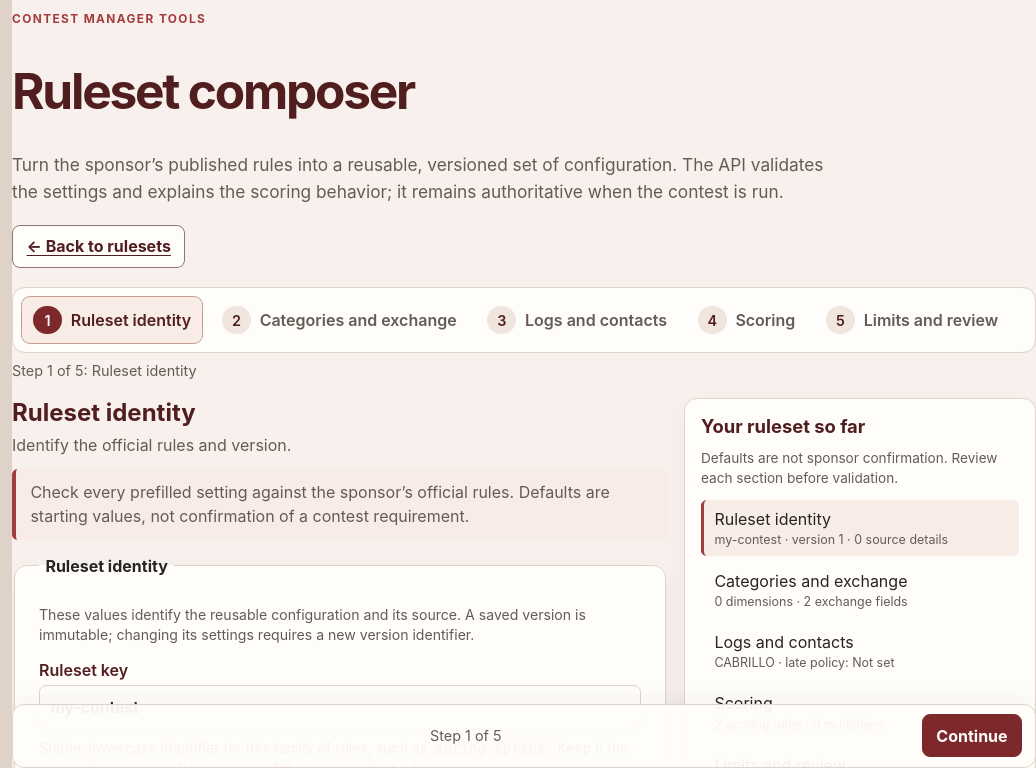
Scenario: RulesetComposerView › persists a validated immutable ruleset version
What coordinates should you click on to do the following:
click the button "5 Limits and review"
I would click on:
 (912, 320)
Its box is left=814, top=296, right=1010, bottom=344.
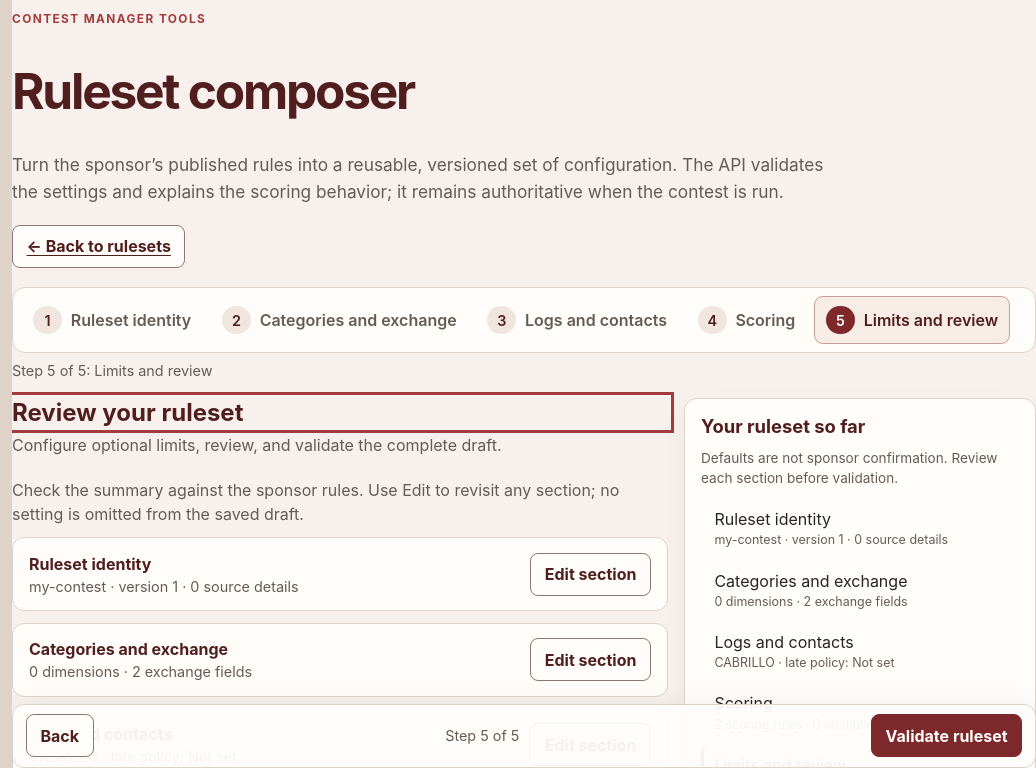
What coordinates should you click on to do the following:
click the button "Validate ruleset"
I would click on:
 (947, 736)
Its box is left=871, top=714, right=1022, bottom=758.
(page scrolled)
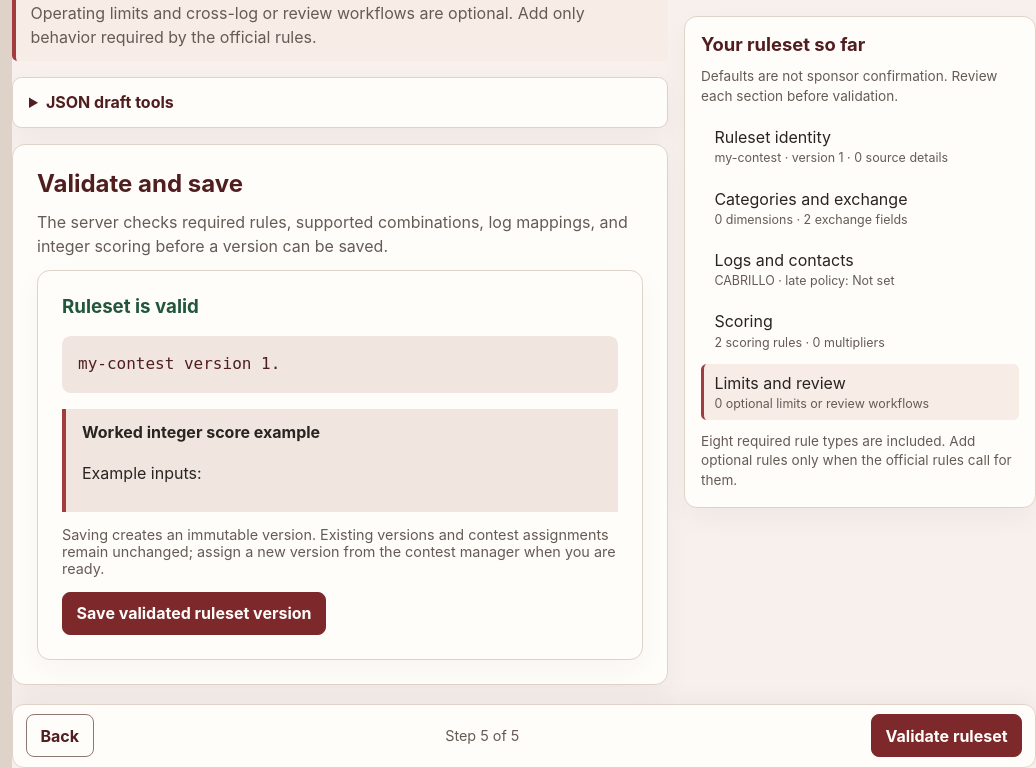
What coordinates should you click on to do the following:
click the button "Save validated ruleset version"
I would click on:
 (194, 613)
Its box is left=62, top=592, right=326, bottom=635.
(page scrolled)
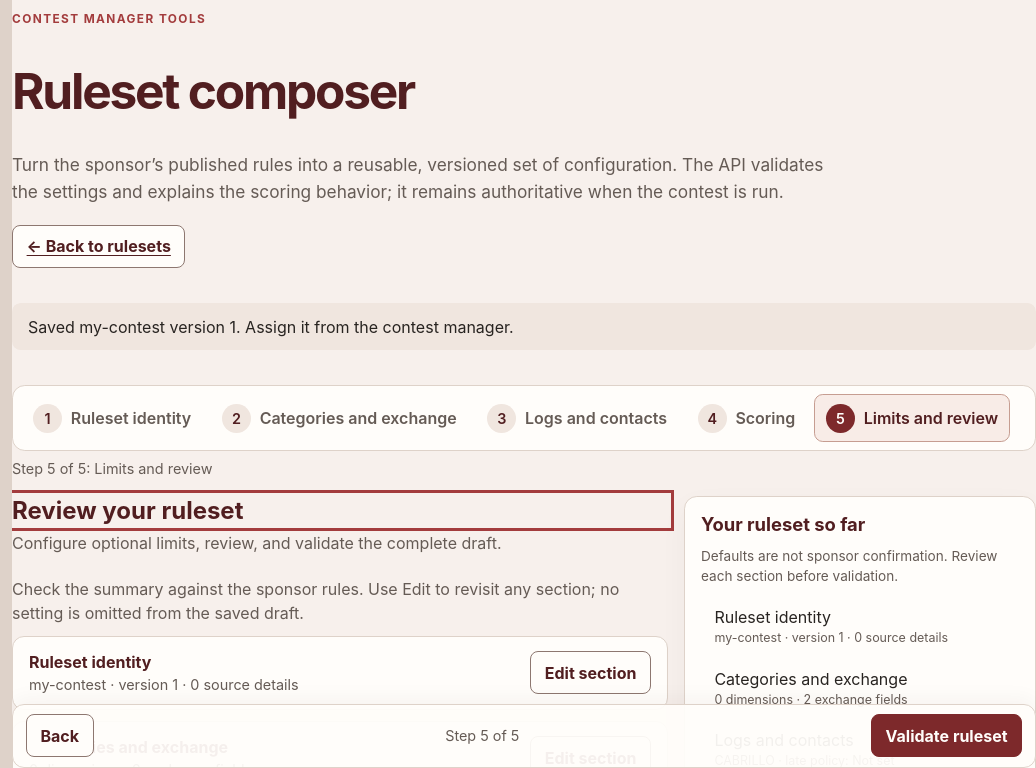
Now the message "Saved my-contest version 1. Assign it from the contest manager." is shown, box left=12, top=303, right=1035, bottom=350
